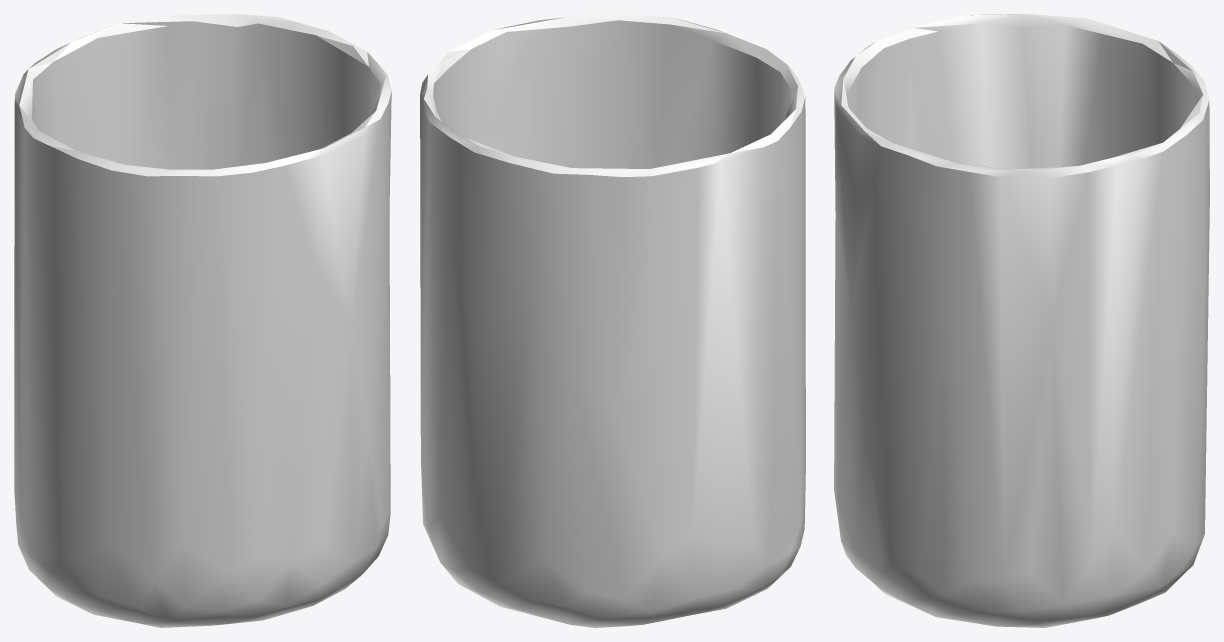
File: SM_Vase_1.fbx
The picture shows the model from 3 angles, left to right: view 1: azimuth 30°, elevation 25°; view 2: azimuth 150°, elevation 25°; view 3: azimuth 270°, elevation 25°; orthographic projection.
Visible parts, largest first — view 1: GDLM1167_GDLM781_mLayer126_61.001; view 2: GDLM1167_GDLM781_mLayer126_61.001; view 3: GDLM1167_GDLM781_mLayer126_61.001.
Part boxes in pixels (box(x1,y1,x2,y2)): GDLM1167_GDLM781_mLayer126_61.001: box(14, 14, 391, 627); GDLM1167_GDLM781_mLayer126_61.001: box(420, 14, 805, 627); GDLM1167_GDLM781_mLayer126_61.001: box(834, 14, 1209, 627).
Bounding box in the file's own units: 0.1338 × 0.1803 × 0.1298.
Materials: 1 (1 with a texture image).
